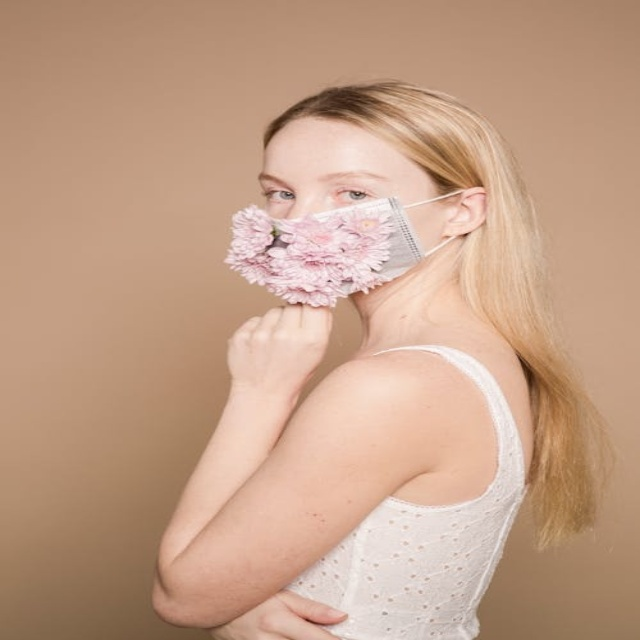Mascara: (244, 189, 461, 297)
Sin_gafas: (252, 166, 404, 201)
Sin_guantes: (224, 301, 333, 392), (213, 589, 353, 640)
